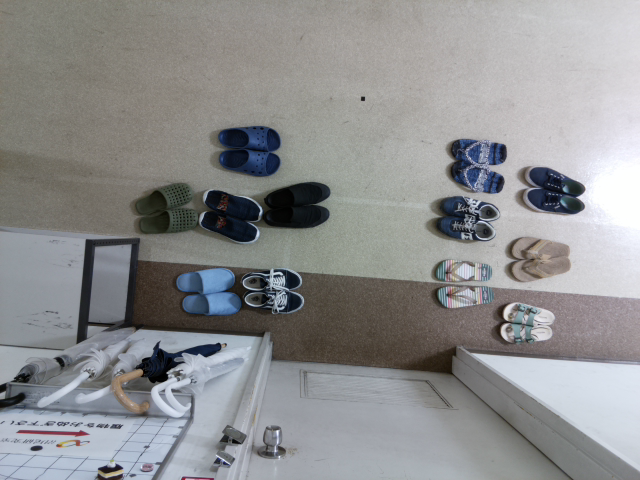Copy of Copy of Copy of Copy of Copy of Copy of Copy of Copy of Copy of Copy of: (196, 207, 267, 248), (130, 177, 201, 217), (133, 201, 204, 241), (425, 251, 501, 286), (261, 174, 337, 209), (198, 184, 274, 219), (429, 277, 505, 311), (491, 295, 567, 329), (263, 197, 339, 231), (241, 284, 317, 318), (165, 290, 241, 324), (489, 318, 564, 352), (238, 257, 313, 291), (167, 259, 242, 293)
Copy of Copy of Copy of Copy of Copy of Copy of Copy of Copy of Copy of shoe: (425, 211, 501, 246)
Copy of Copy of Copy of Copy of Copy of Copy of Copy of Copy of shoe: (429, 189, 505, 224)
Copy of Copy of Copy of Copy of Copy of Copy of Copy of shoe: (505, 253, 579, 288)
Copy of Copy of Copy of Copy of Copy of Copy of shoe: (503, 228, 577, 263)
Copy of Copy of Copy of Copy of Copy of shoe: (517, 181, 591, 220)
Copy of Copy of Copy of Copy of Copy of umbrella: (1, 319, 131, 410)
Copy of Copy of Copy of Copy of shoe: (518, 159, 592, 198)
Copy of Copy of Copy of Copy of umbrella: (34, 322, 145, 412)
Copy of Copy of Copy of shoe: (444, 155, 512, 194)
Copy of Copy of Copy of umbrella: (71, 326, 162, 413)
Copy of Copy of shoe: (438, 134, 516, 168)
Copy of Copy of umbrella: (104, 338, 224, 417)
Copy of shoe: (212, 144, 290, 178)
Copy of umbrella: (168, 349, 257, 420)
shoe: (210, 121, 289, 155)
umbrella: (148, 338, 253, 421)
